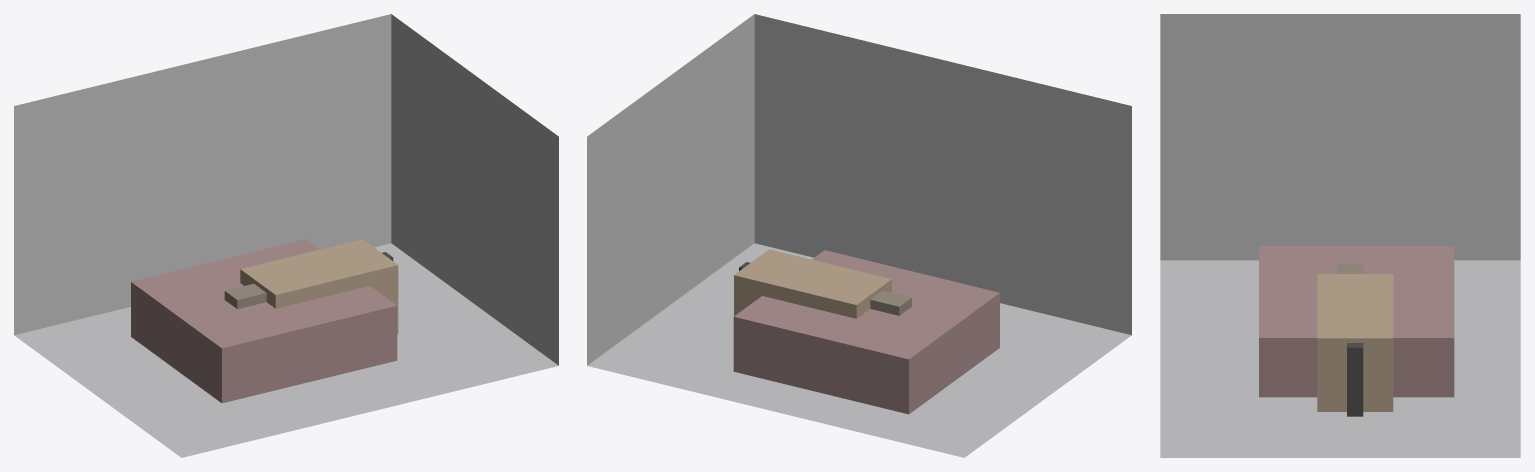
File: optimised_layout.glb
3 renders of one model, left to right at view 1: azimuth 30°, elevation 25°; view 2: azimuth 150°, elevation 25°; view 3: azimuth 270°, elevation 25°, orthographic. The views are drawn at different scales.
Visible parts, largest first — view 1: room, bed, desk, suitcase; view 2: room, bed, desk, suitcase; view 3: room, bed, desk, tv.
Part boxes in pixels (x1=…): room: x1=14, y1=14, x2=558, y2=457; bed: x1=131, y1=239, x2=397, y2=403; desk: x1=240, y1=239, x2=398, y2=333; suitcase: x1=224, y1=283, x2=266, y2=309; room: x1=587, y1=14, x2=1131, y2=457; bed: x1=733, y1=250, x2=999, y2=414; desk: x1=734, y1=249, x2=891, y2=318; suitcase: x1=870, y1=290, x2=911, y2=315; room: x1=1160, y1=14, x2=1520, y2=457; bed: x1=1259, y1=246, x2=1454, y2=397; desk: x1=1317, y1=274, x2=1393, y2=411; tv: x1=1347, y1=343, x2=1363, y2=416.
Bounding box in the file's own units: 4.31 × 2.5 × 3.31.
